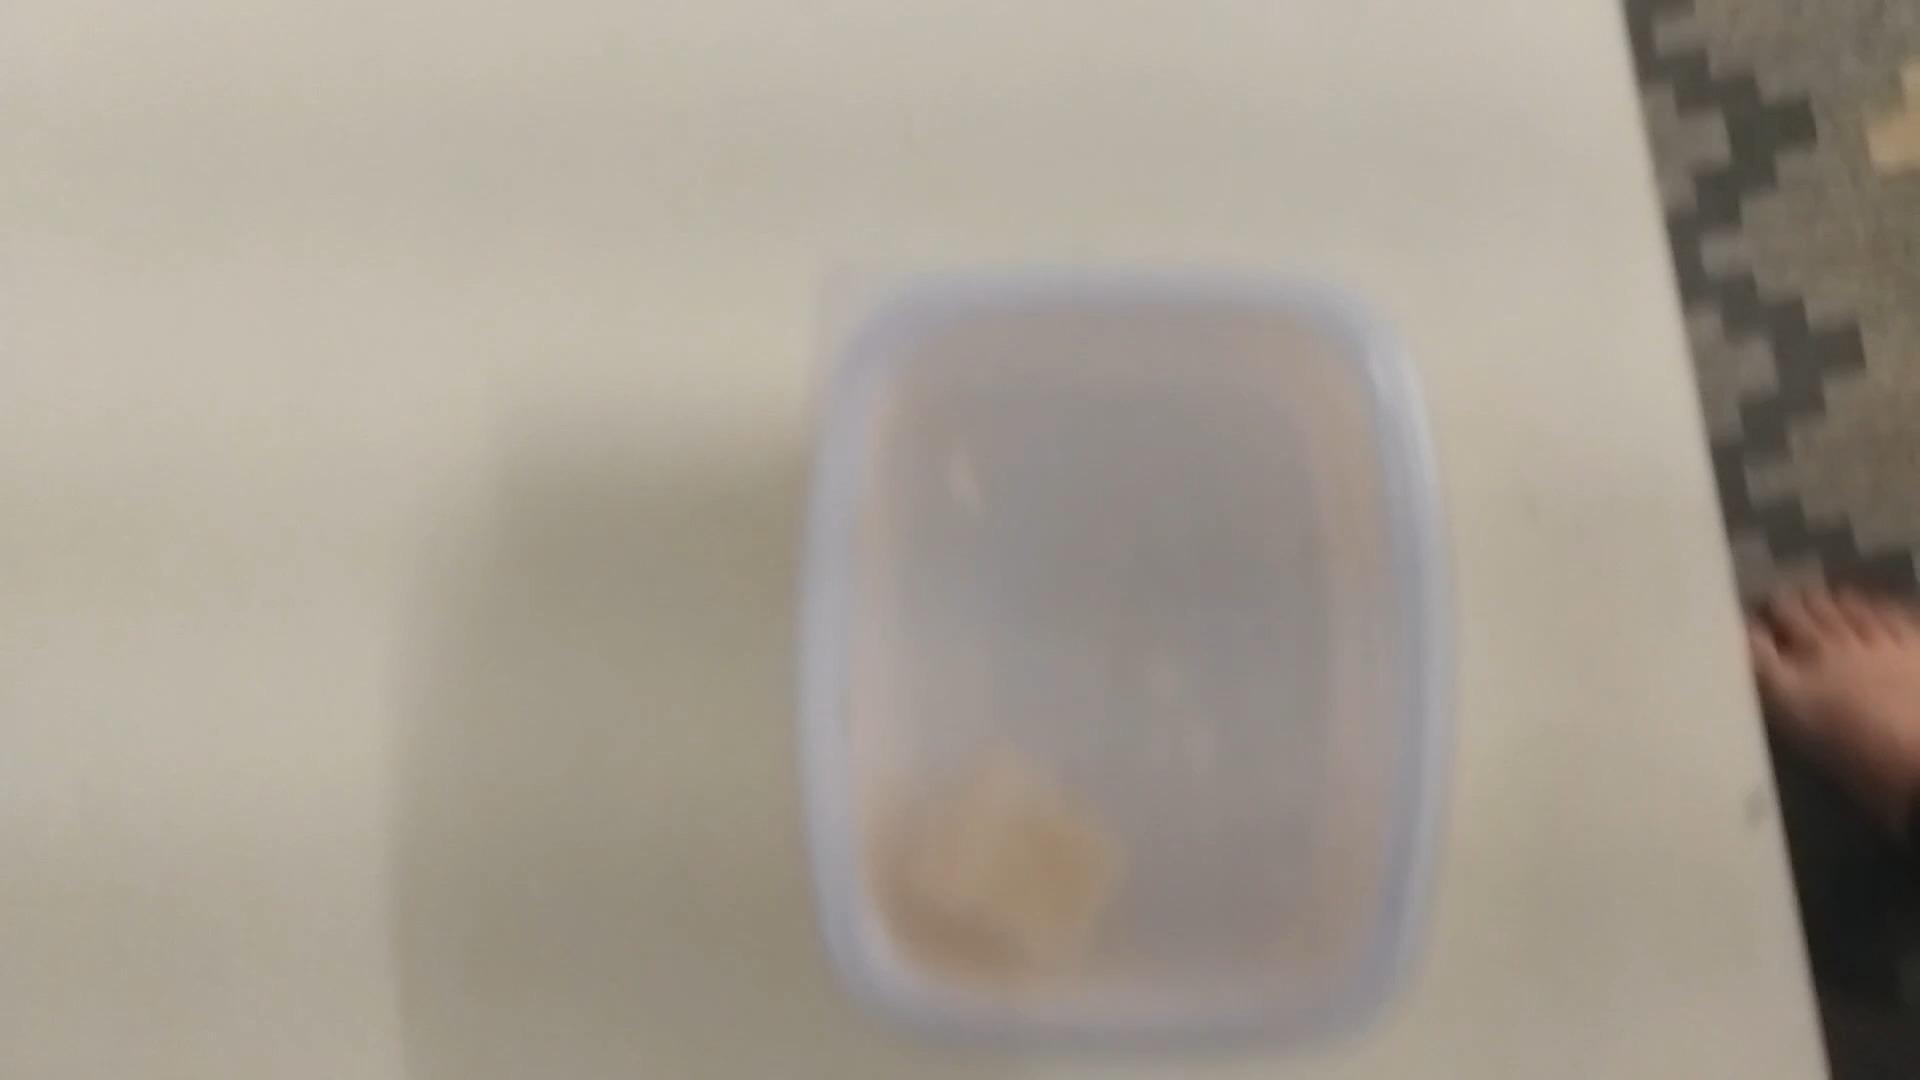butter: (791, 269, 1435, 1064)
